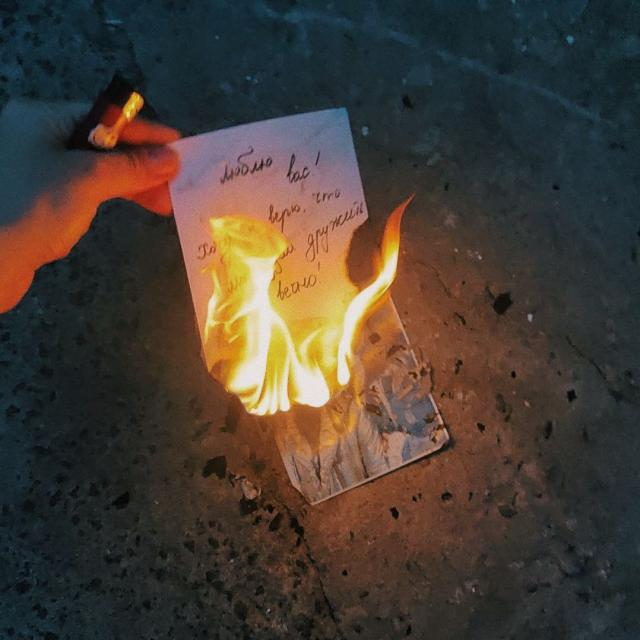fire: (202, 216, 331, 415), (337, 197, 411, 385)
